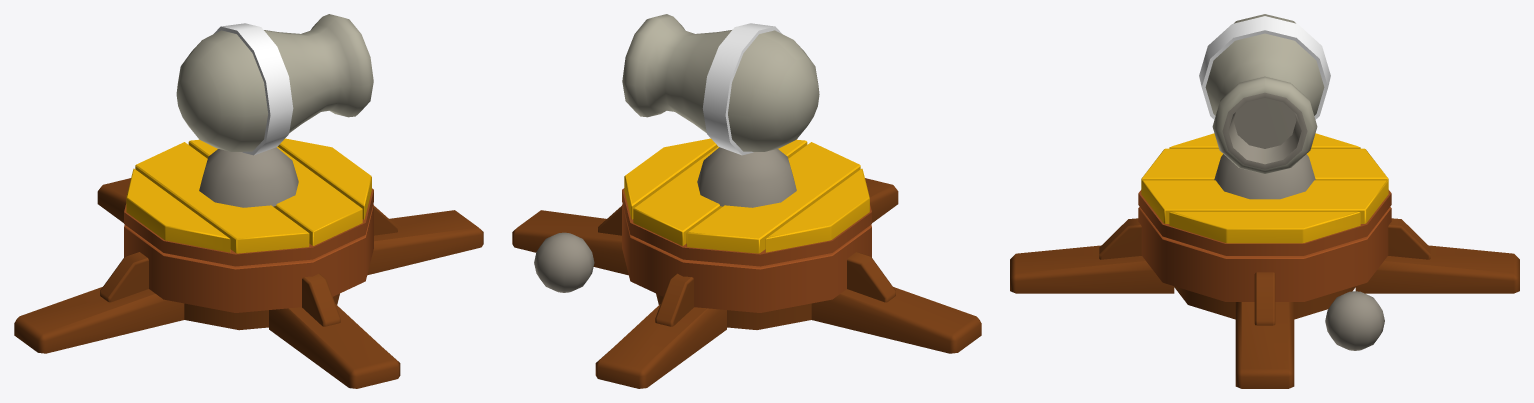
The model's file is islnd3-cannonball1.fbx.
The picture shows the model from 3 angles, left to right: view 1: azimuth 30°, elevation 25°; view 2: azimuth 150°, elevation 25°; view 3: azimuth 270°, elevation 25°; orthographic projection.
Parts seen in each view (by area): view 1: islnd3-cannonball1, island3-cannonball1.01; view 2: islnd3-cannonball1, island3-cannonball1.01, ball; view 3: islnd3-cannonball1, island3-cannonball1.01, ball.
Boxes of the visible parts, bbox=[...] form: islnd3-cannonball1: bbox=[14, 138, 483, 388]; island3-cannonball1.01: bbox=[176, 14, 373, 207]; islnd3-cannonball1: bbox=[512, 138, 981, 388]; island3-cannonball1.01: bbox=[622, 14, 819, 207]; ball: bbox=[534, 232, 594, 292]; islnd3-cannonball1: bbox=[1010, 133, 1519, 388]; island3-cannonball1.01: bbox=[1199, 14, 1330, 199]; ball: bbox=[1325, 291, 1384, 350].
Bounding box in the file's own units: 4.26 × 2.4 × 4.26.
1 material, 1 textured.
